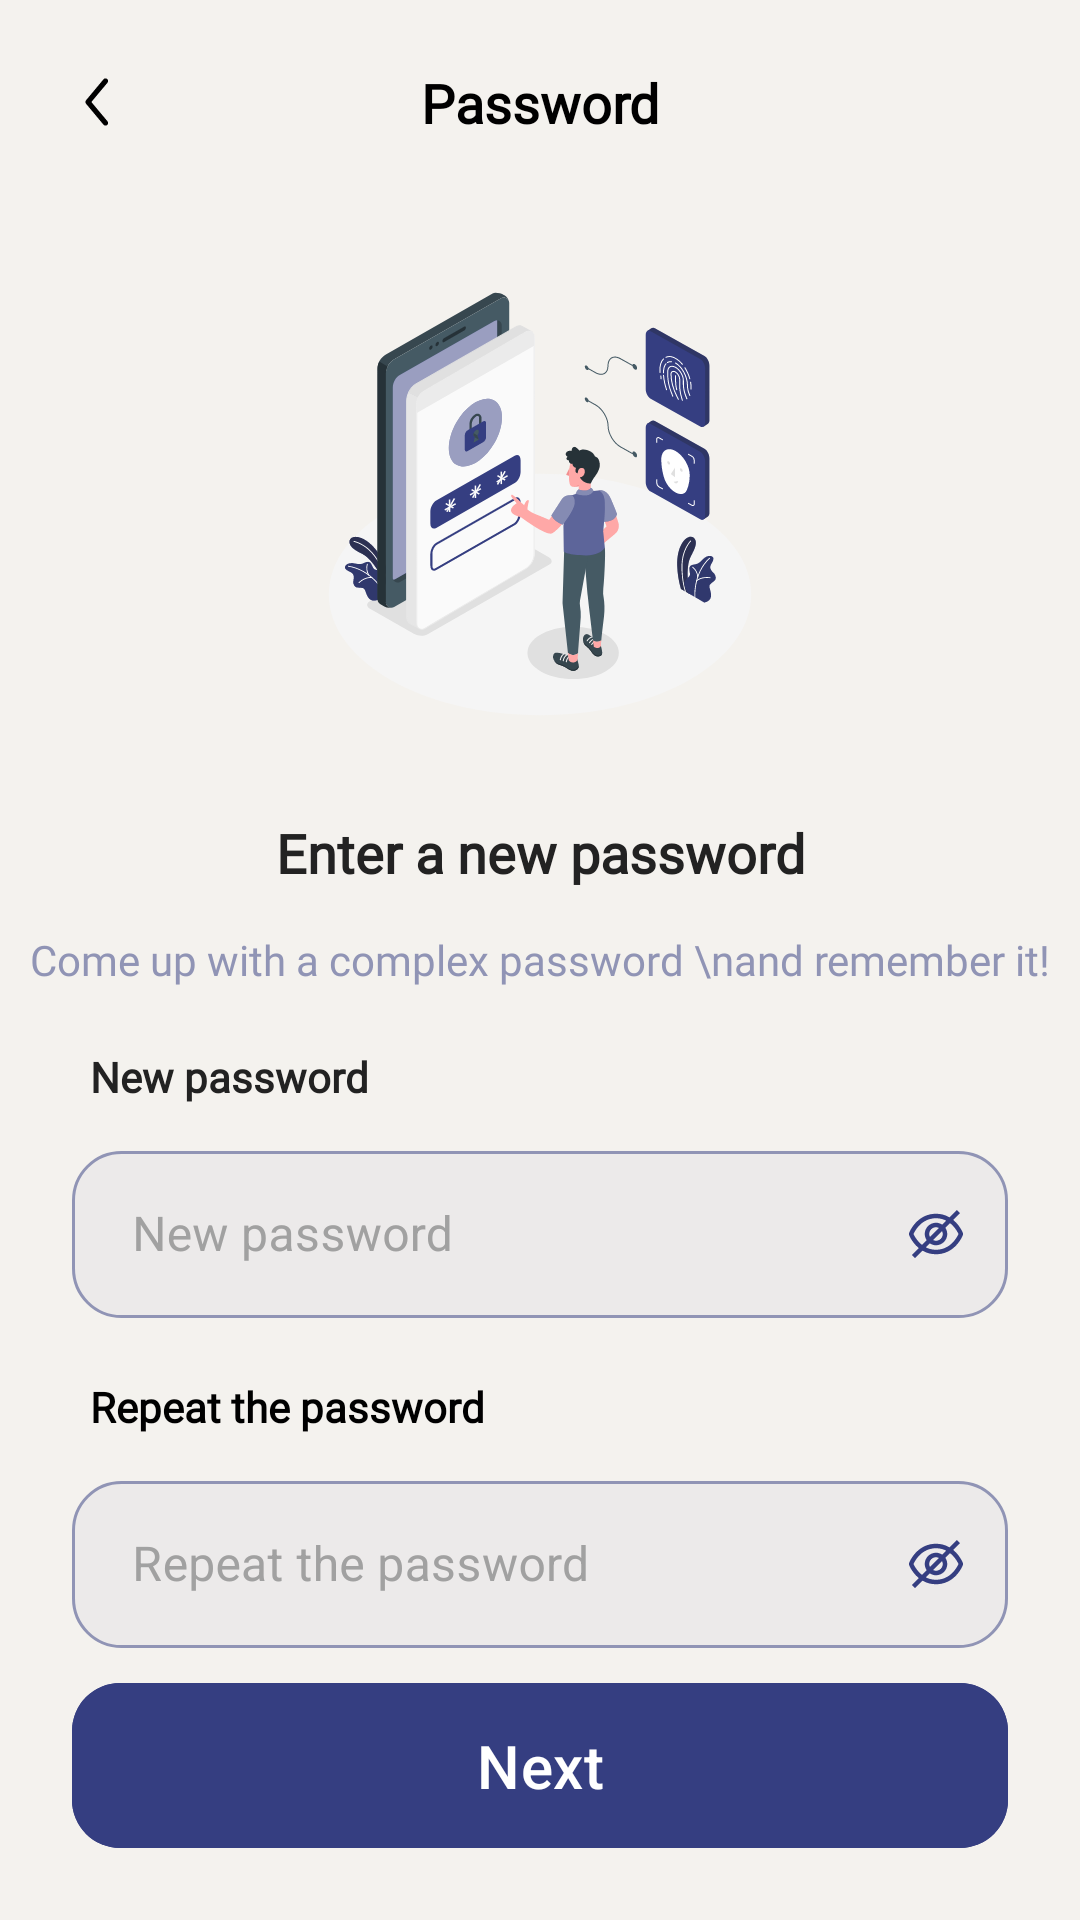

Icon click points for this 1080px x 1920px phone screenshot, format (x,y):
back: (96,102)
